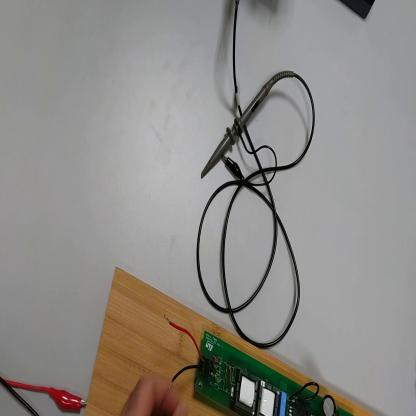hand: (122, 374, 187, 413)
high voltage board: (165, 315, 352, 415)
oscilloscope probe tip: (200, 77, 277, 178)
working area: (84, 266, 372, 416)
